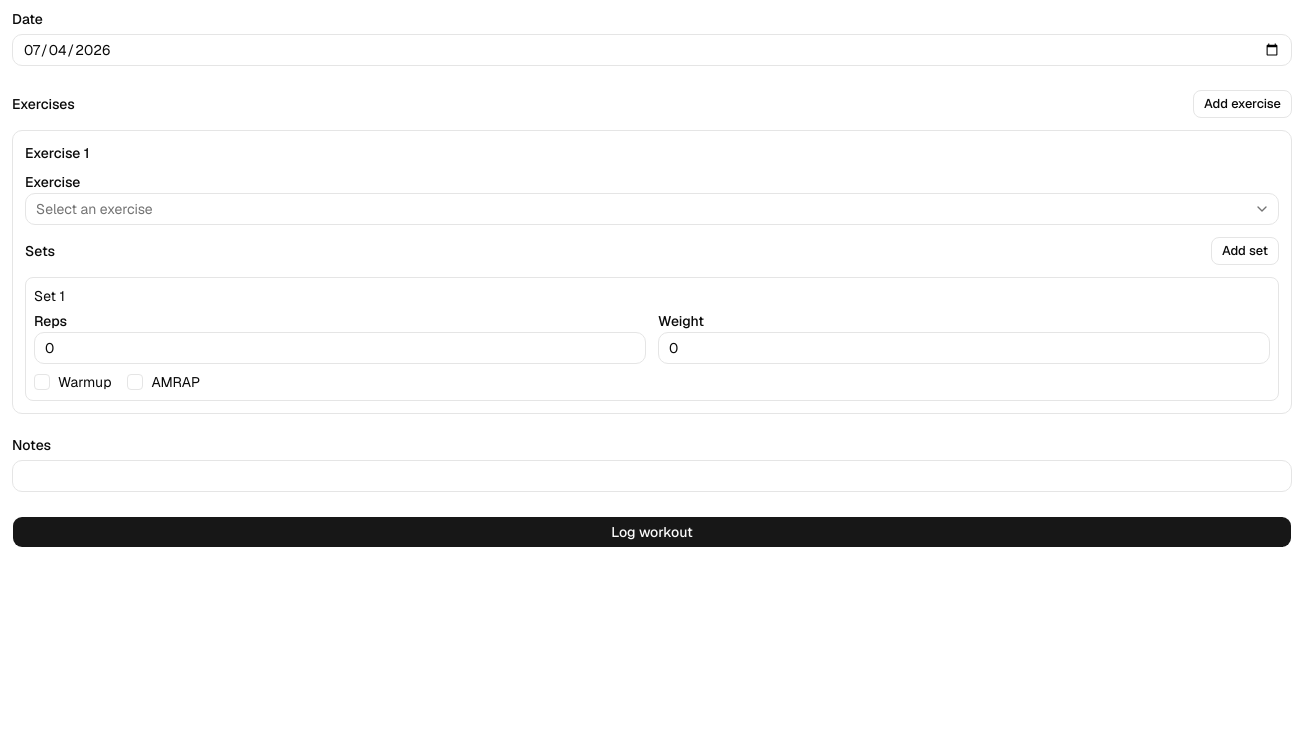
Test case: LogWorkoutForm › rejects negative reps and negative weight on submit
Click the dropdown labelled "Select an exercise ▼" at x=94, y=209, box left=25, top=193, right=1279, bottom=225
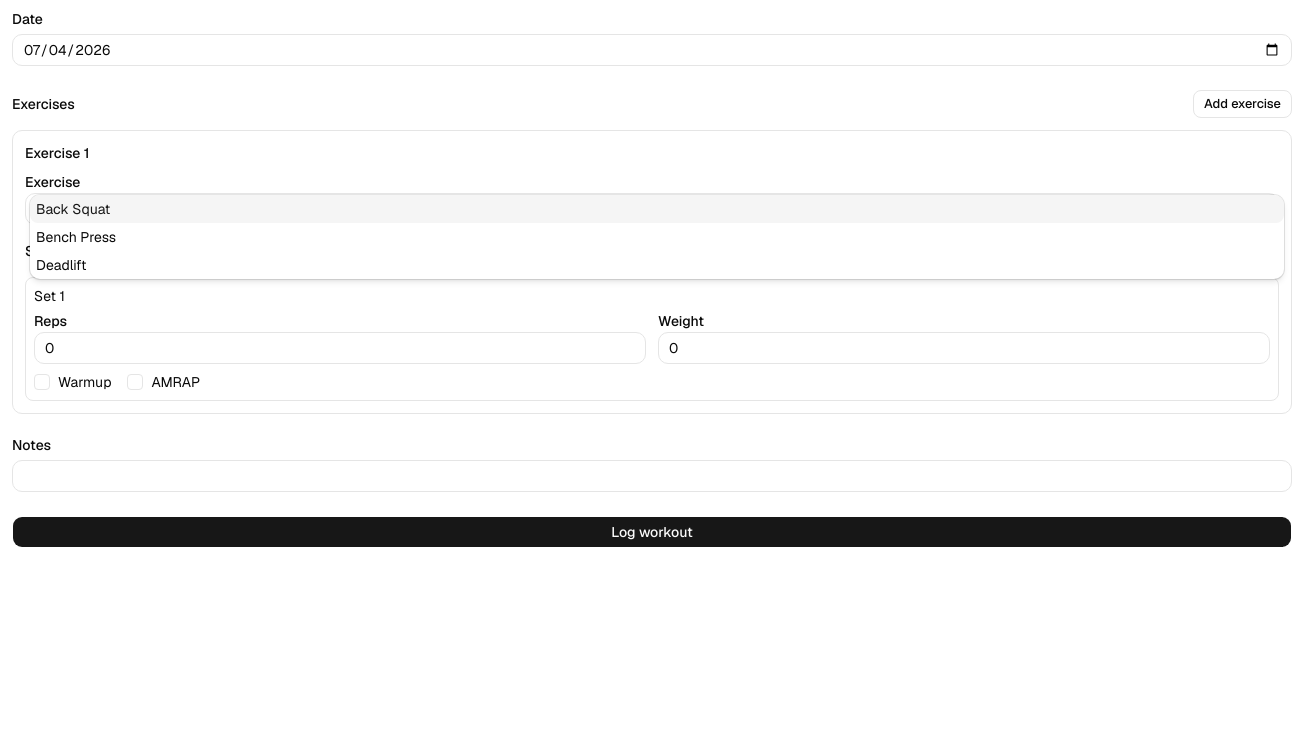
Click the option "Back Squat" at x=73, y=209, box left=30, top=195, right=1284, bottom=223
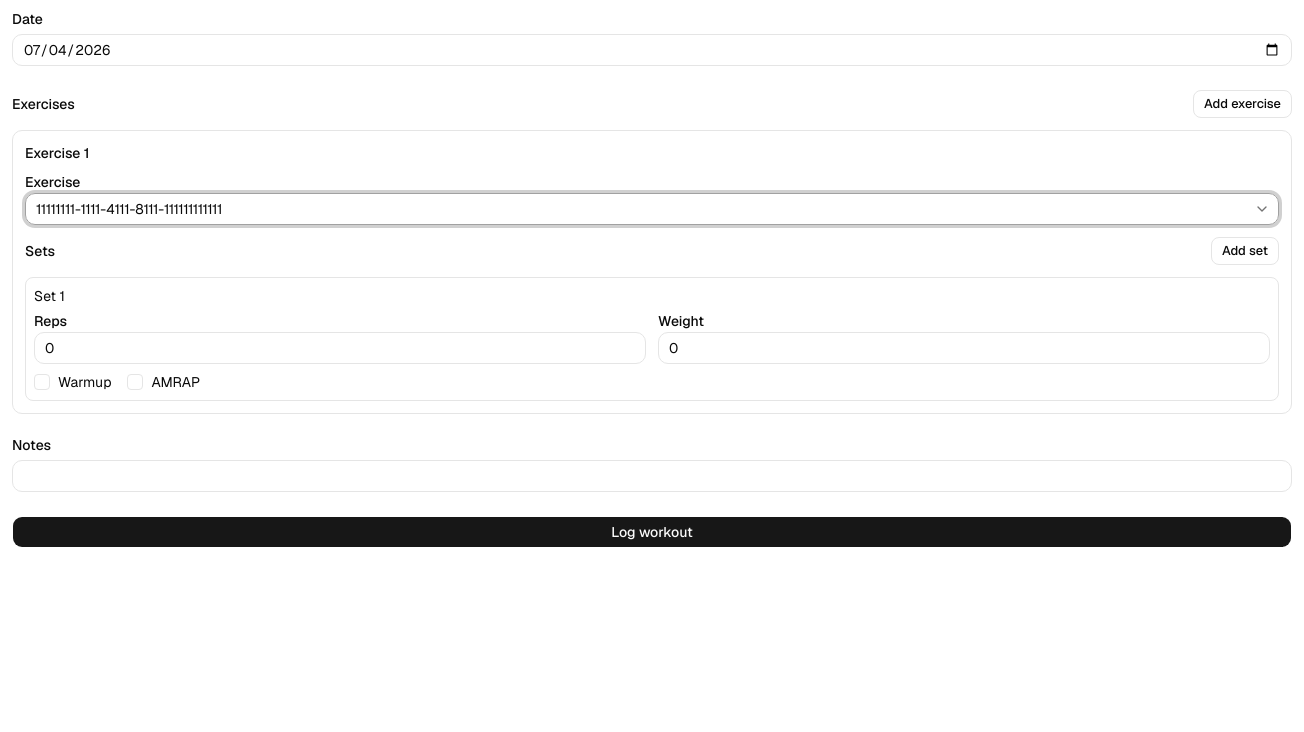
Replace the text in the number field labelled "Reps" with "-1" at x=340, y=348, box left=34, top=332, right=646, bottom=364
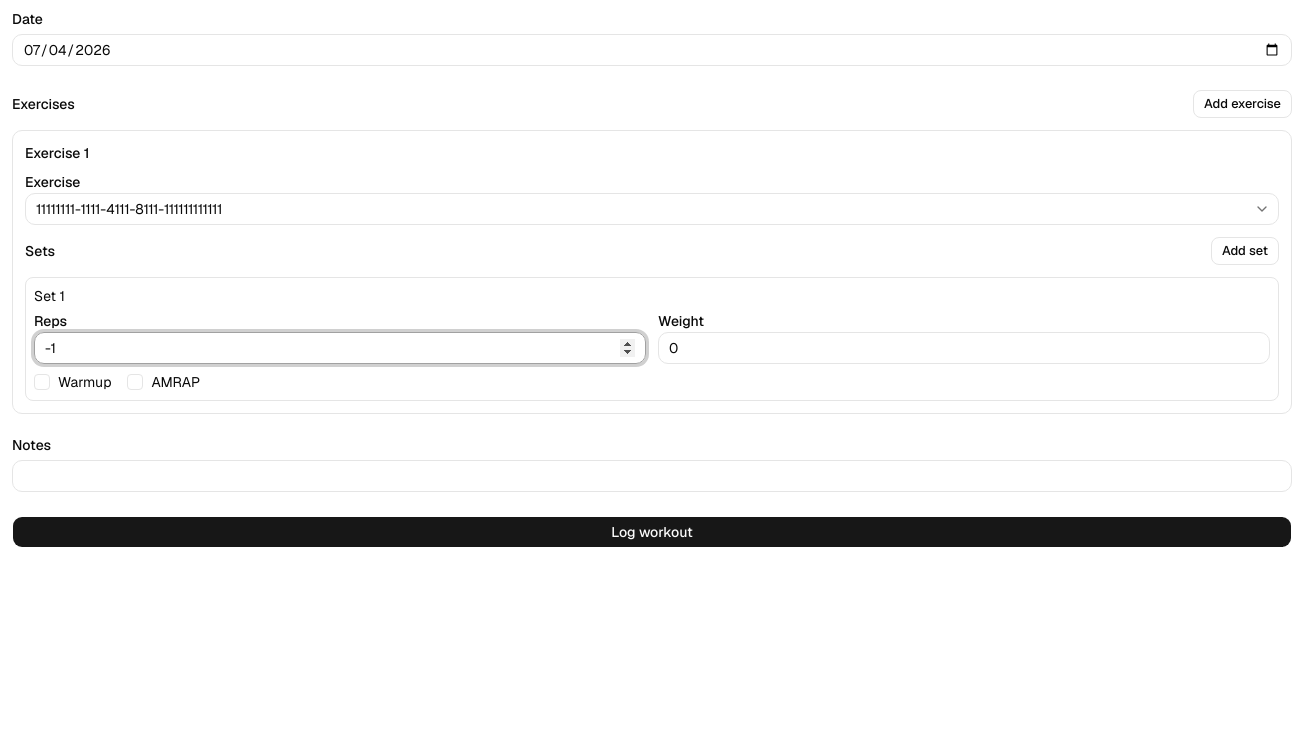
Replace the text in the number field labelled "Weight" with "-5" at x=964, y=348, box left=658, top=332, right=1270, bottom=364
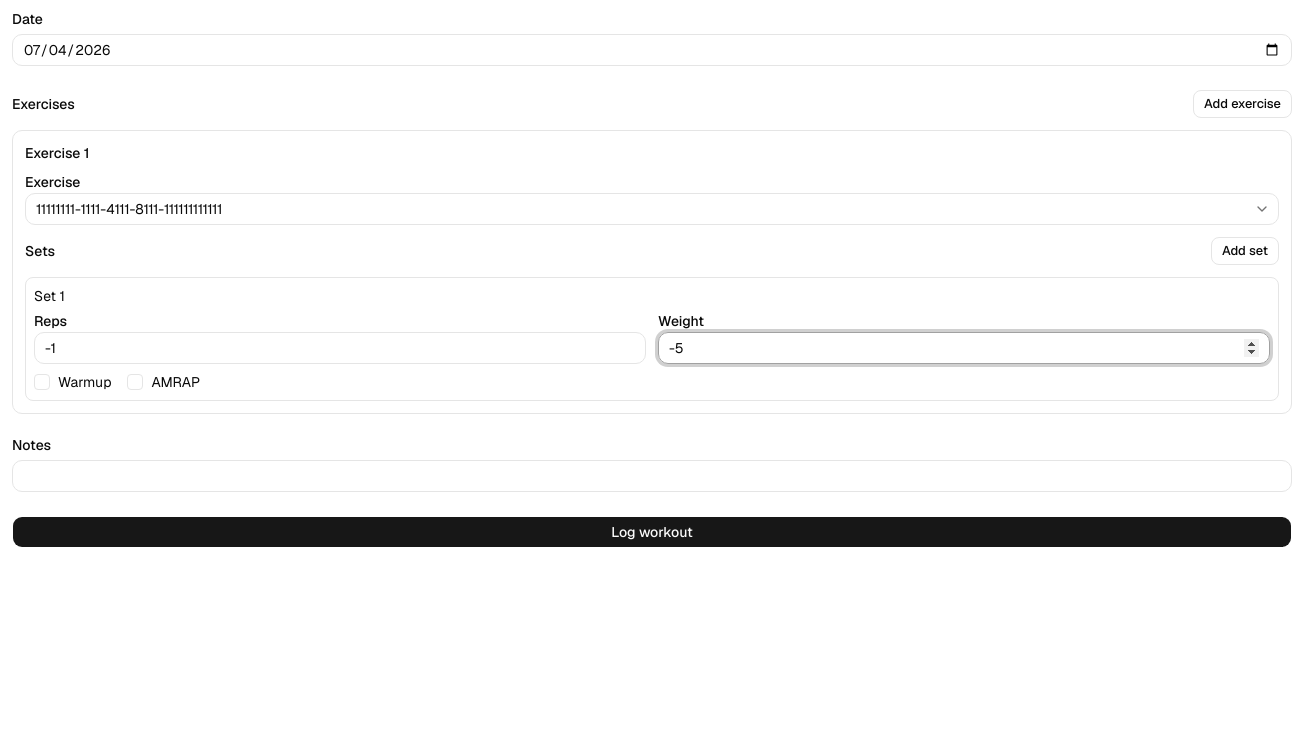
Click the button "Log workout" at x=652, y=532, box left=12, top=516, right=1292, bottom=548
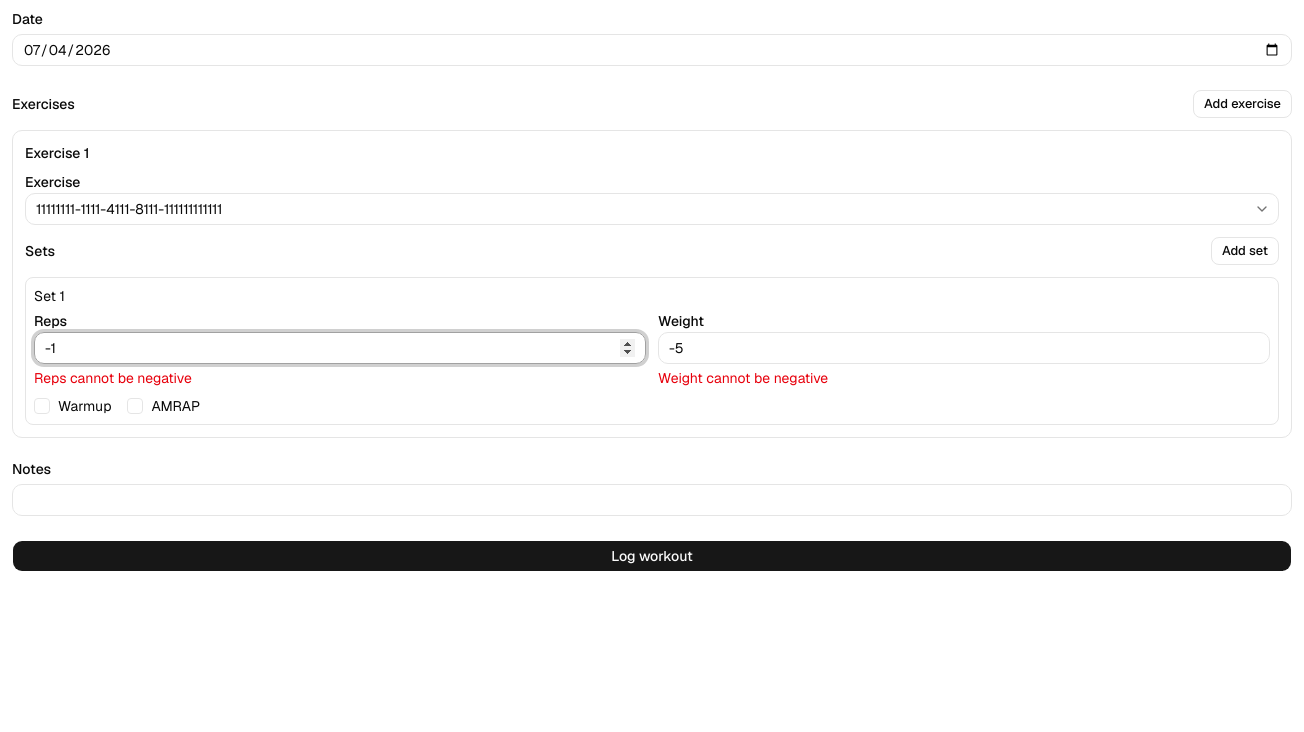
Expected: the text "Reps cannot be negative" is shown, left=34, top=369, right=192, bottom=387
Expected: the text "Weight cannot be negative" is shown, left=658, top=369, right=828, bottom=387
